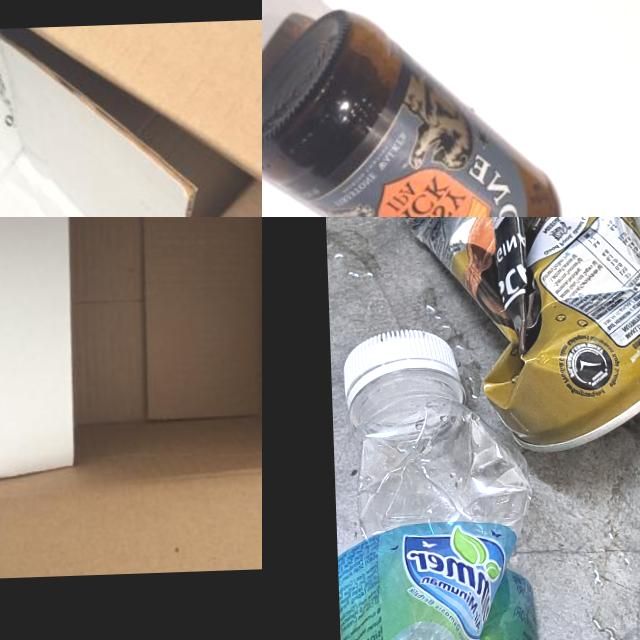garrafa de vidro: (262, 0, 636, 217)
garrafa plástica: (331, 371, 565, 640)
lata: (384, 217, 640, 460)
papelão: (0, 217, 262, 582), (0, 10, 262, 217)
tampa plástica: (341, 328, 465, 412)
